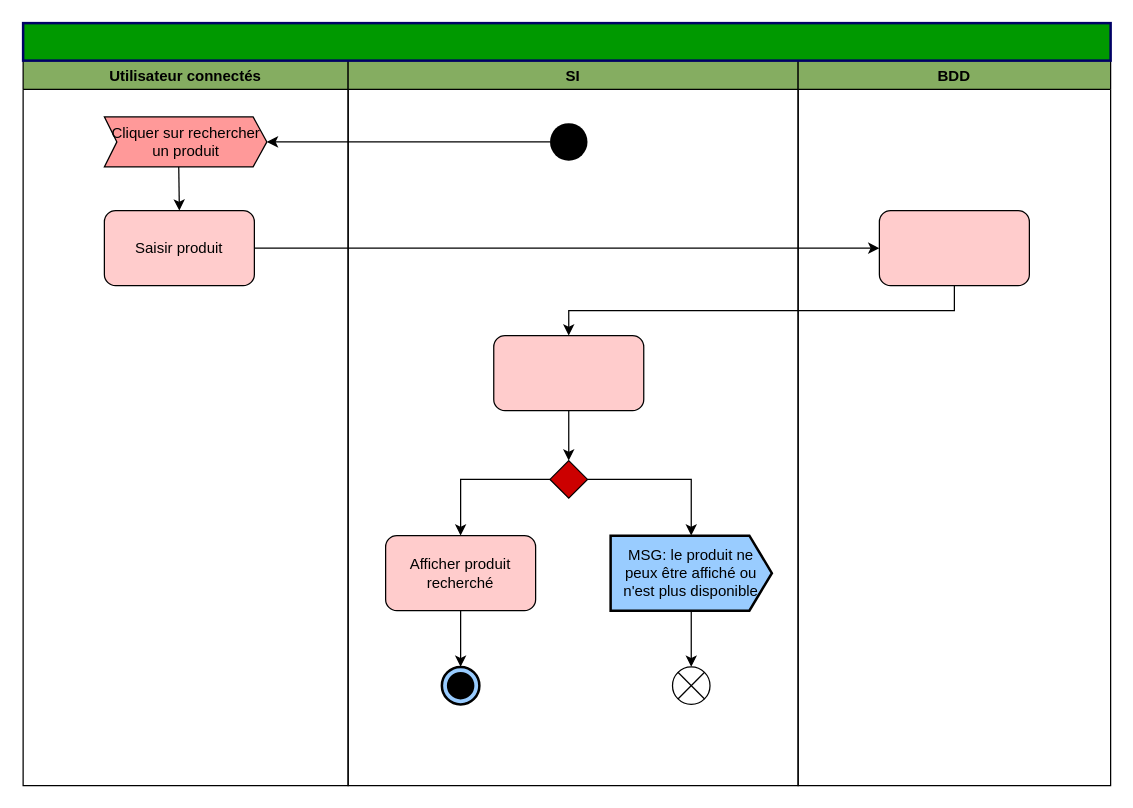
The diagram is 1133 pixels wide and 808 high, and some of its shapes have lost their labels. The centre of each missing label's shape, as x and y in pixels:
Exécuter requête disponibilté produit: point 953,247
Rechercher produit: point 566,41
Vérifier disponibilité produit: point 568,372
